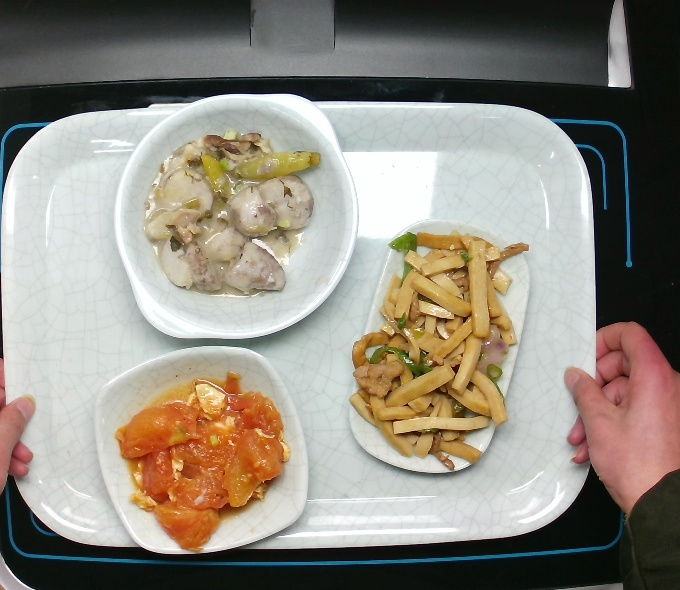wcq-FanQieChaoDan: (113, 374, 293, 558)
wcq-QianYeDouFu: (344, 215, 548, 480)
wcq-YangYu: (134, 124, 326, 302)
